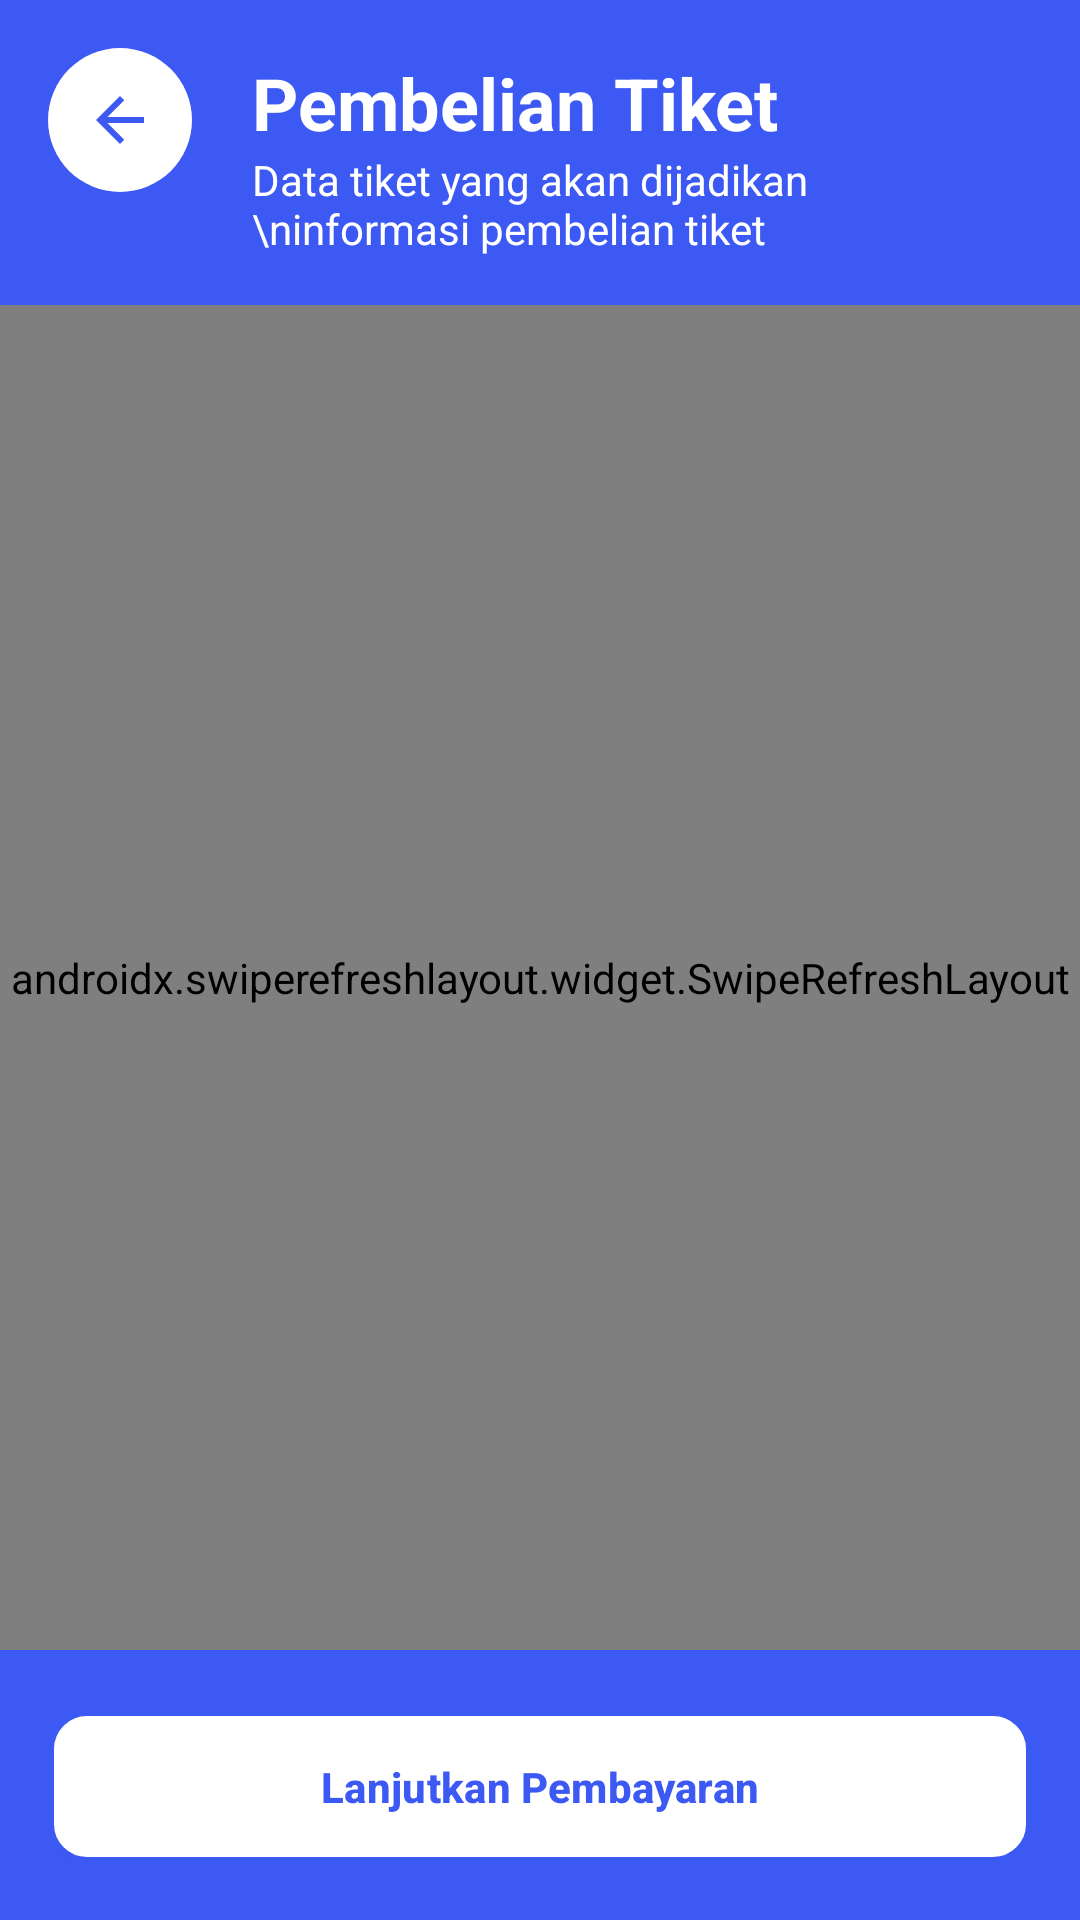

Named icons in this screenshot (1080px x 1920px) and their centers, (x=x, y=y):
back arrow: (x=120, y=120)
